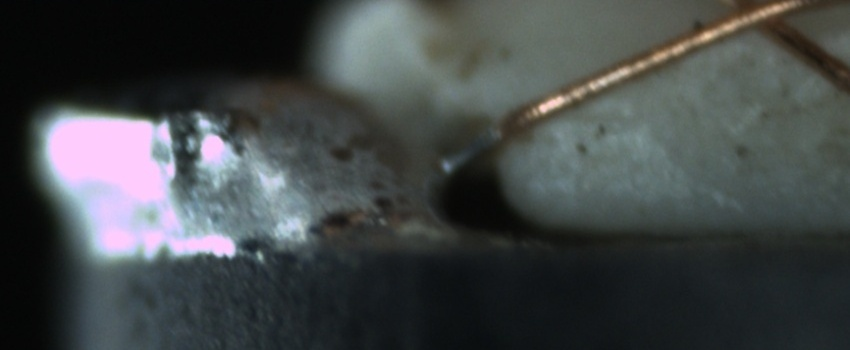CL: (706, 2, 814, 44)
DL: (557, 90, 641, 143)
TS: (434, 121, 503, 178)
TTCW: (434, 82, 563, 177)
